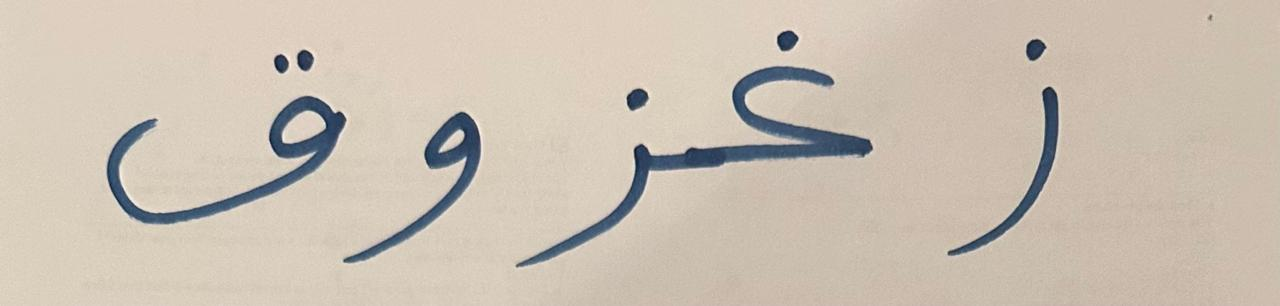ghain: (686, 7, 902, 221)
hamza: (909, 14, 1132, 276), (505, 53, 681, 283)
reh: (85, 13, 355, 235)
yeh: (359, 78, 501, 264)
